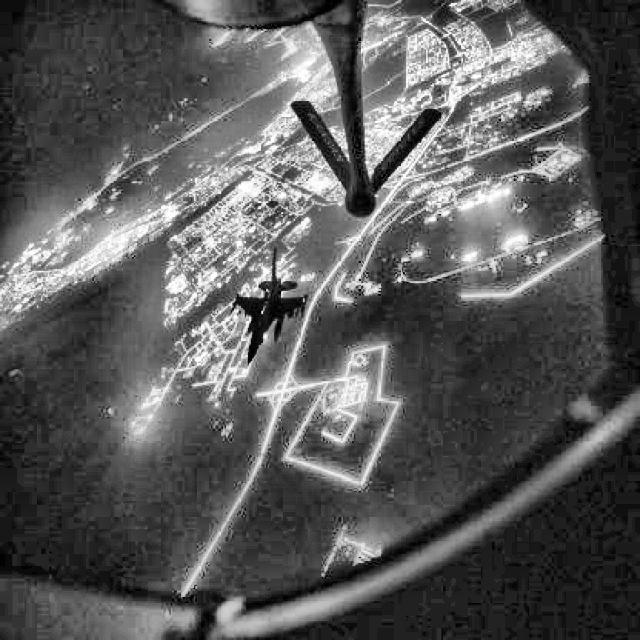F16: (230, 246, 308, 369)
